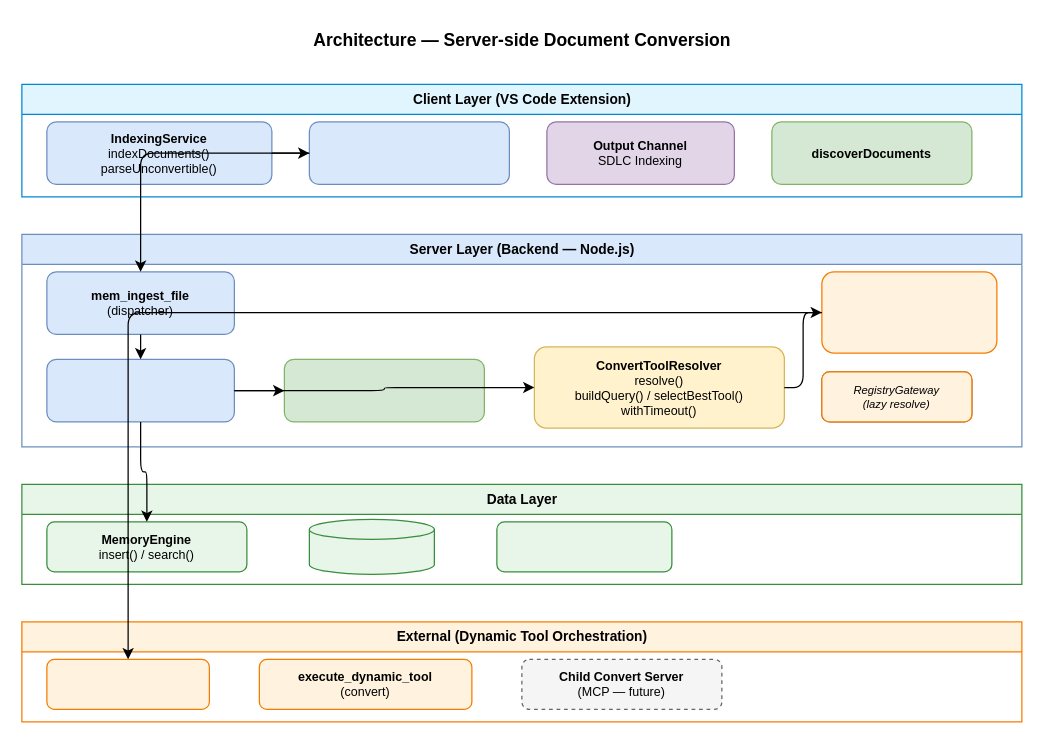
The diagram is 1044 pixels wide and 744 high, and some of its shapes have lost their labels. Each missing label, with the centre of its shape:
Embedder (ONNX Runtime): point (584, 546)
find_tools (discover): point (127, 683)
FormatClassifier classifyFormat() normalizeExt(): point (383, 390)
handleIngestFile (async, timeout): point (140, 390)
IndexerHttpClient POST ingest-file: point (408, 152)
OrchestrationGateway (interface) findTools() / executeDynamicTool(): point (909, 312)
SQLite (KB store): point (371, 546)
